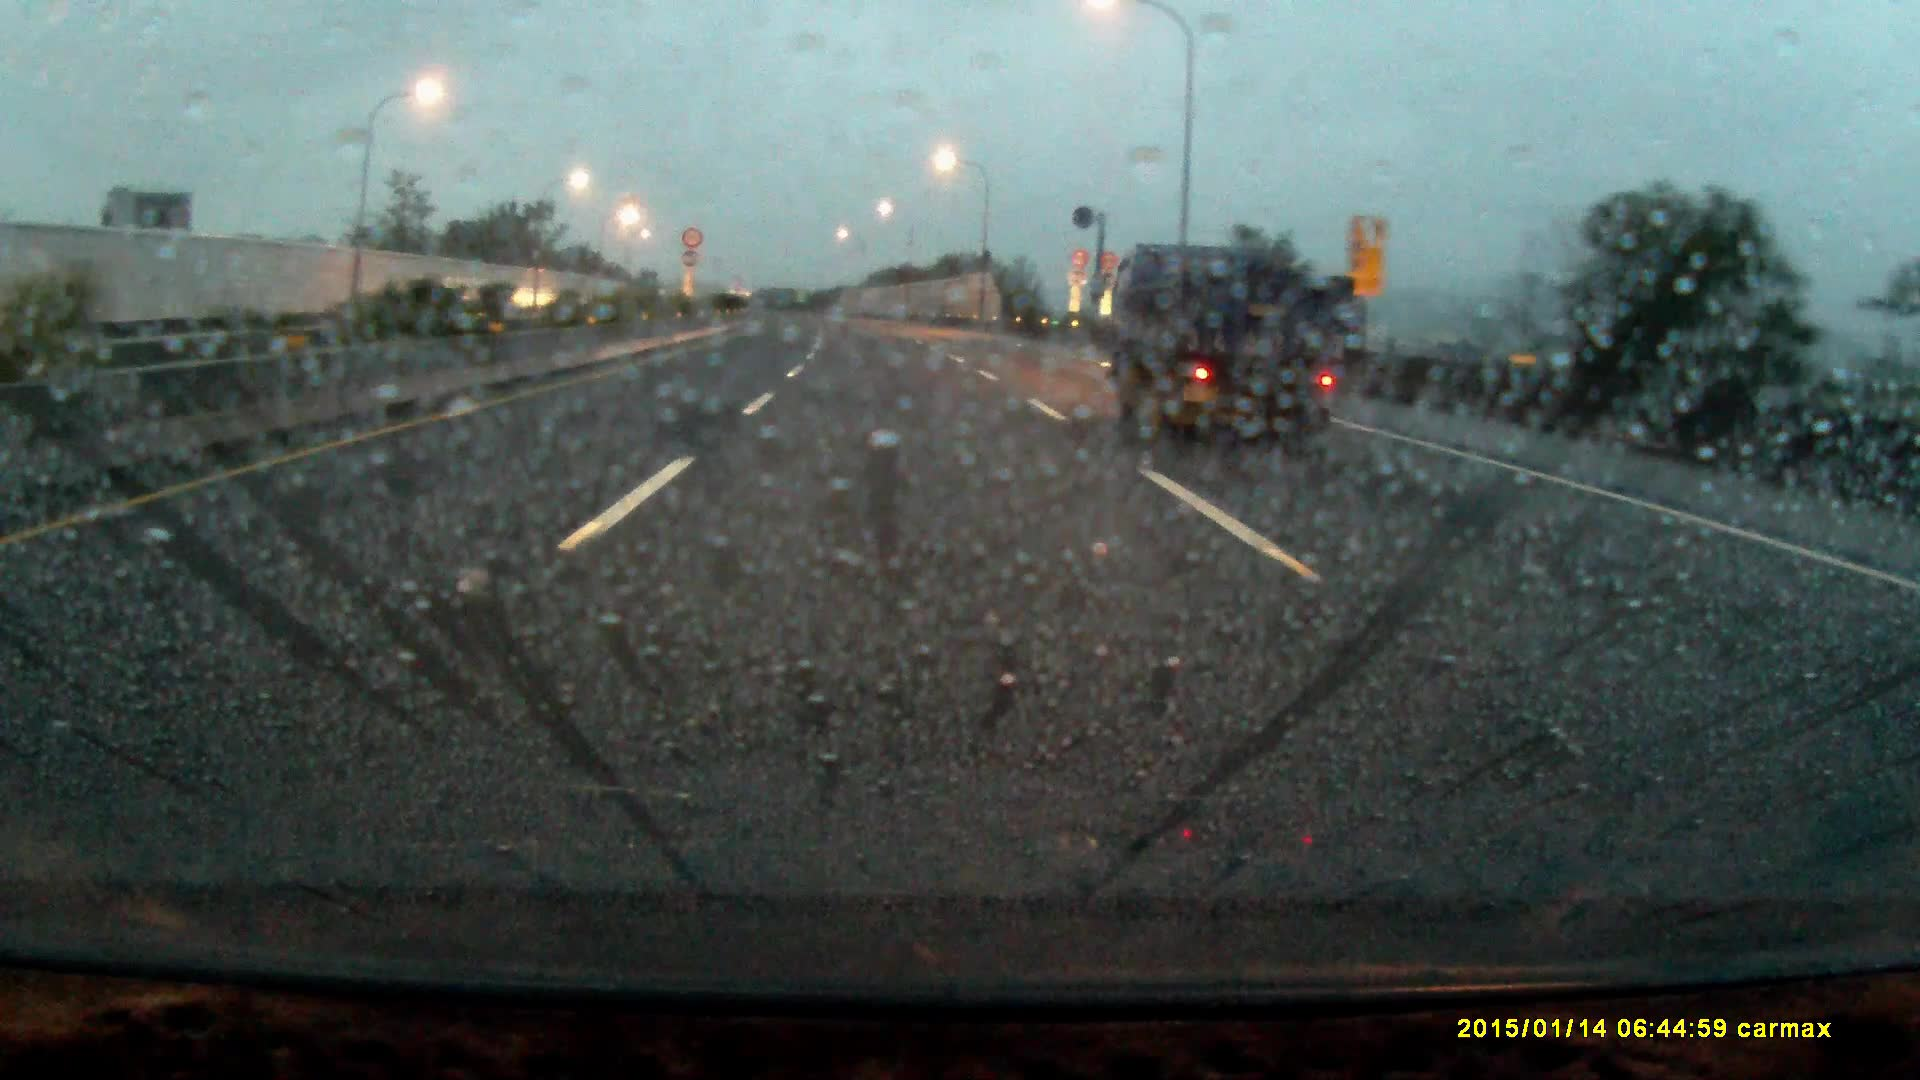vehicle: (1108, 236, 1361, 429)
